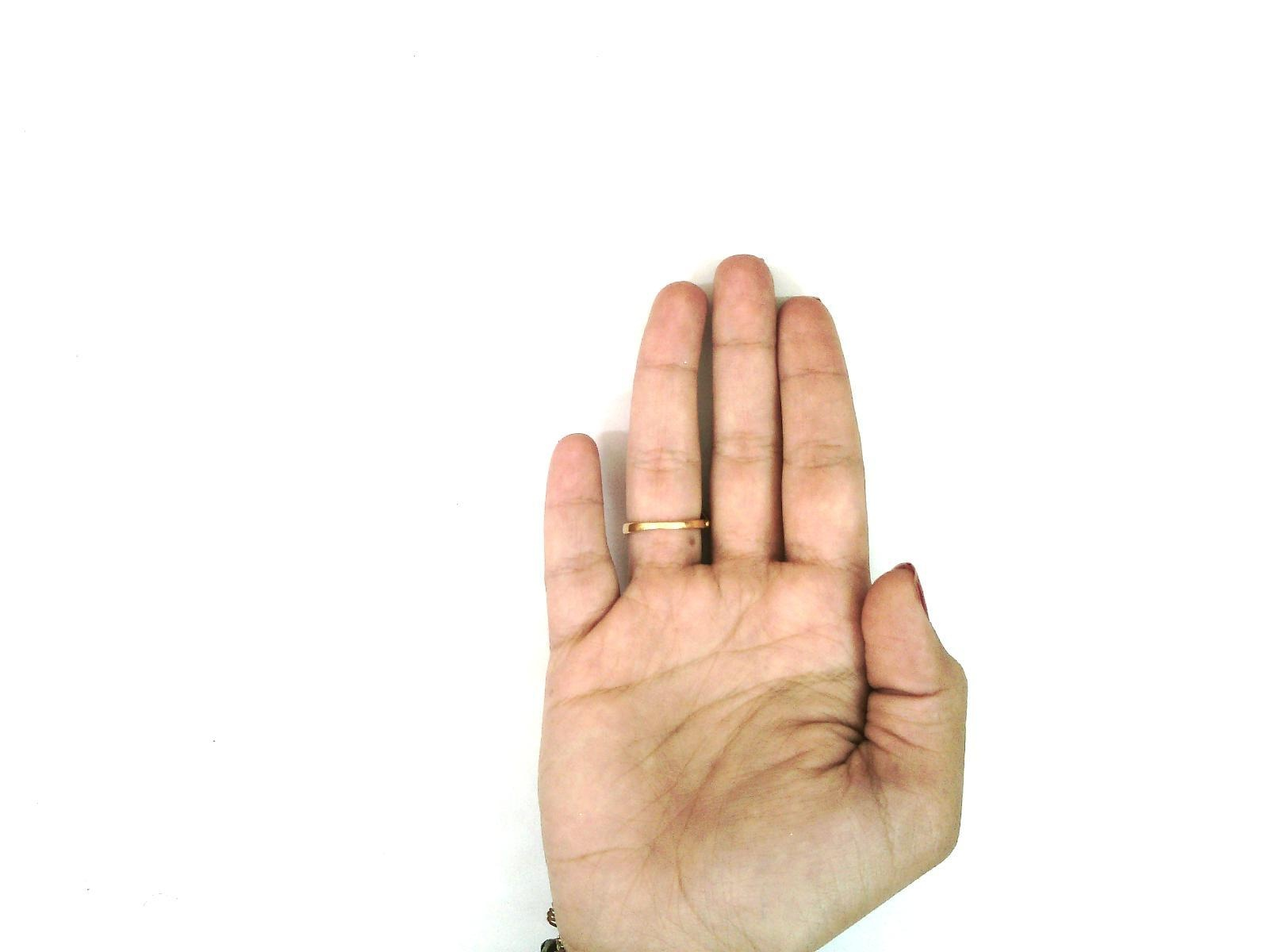open_palm: (533, 253, 972, 951)
